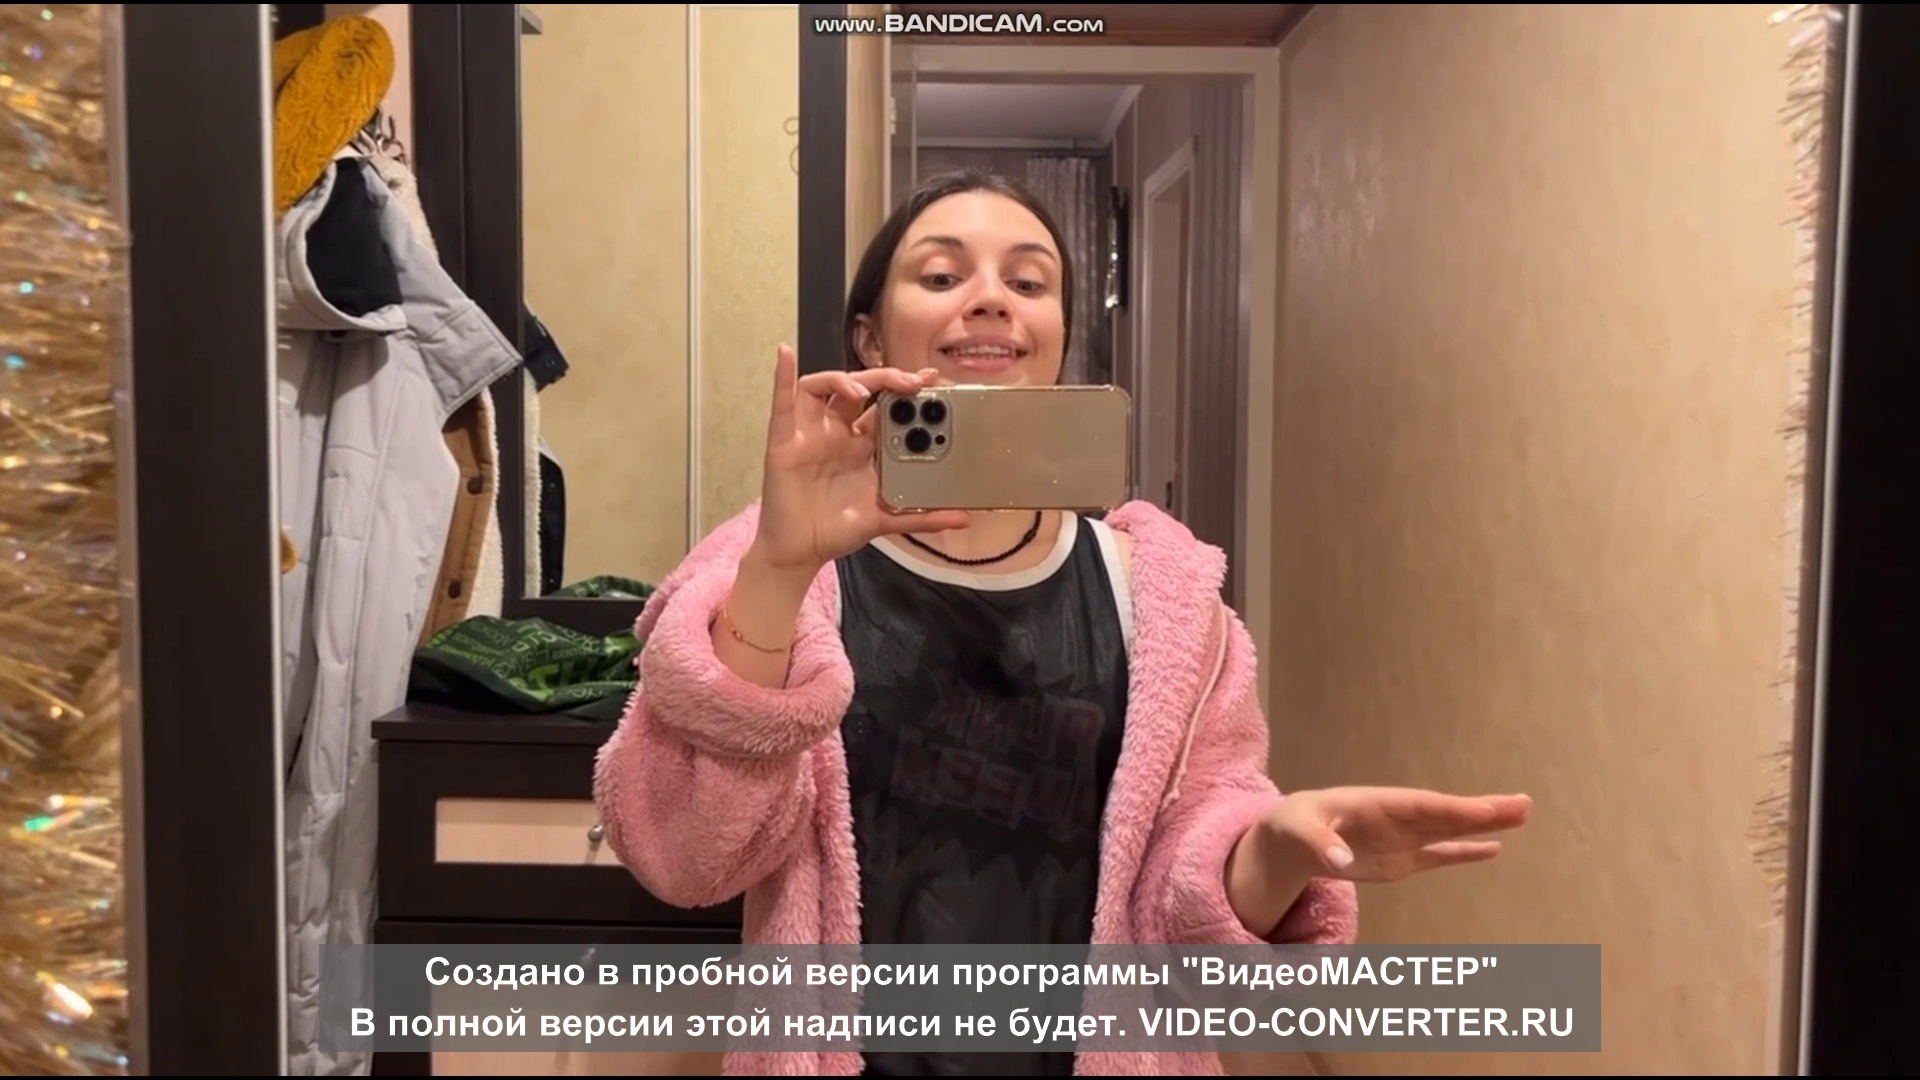Ладонь: (1275, 786, 1530, 884)
